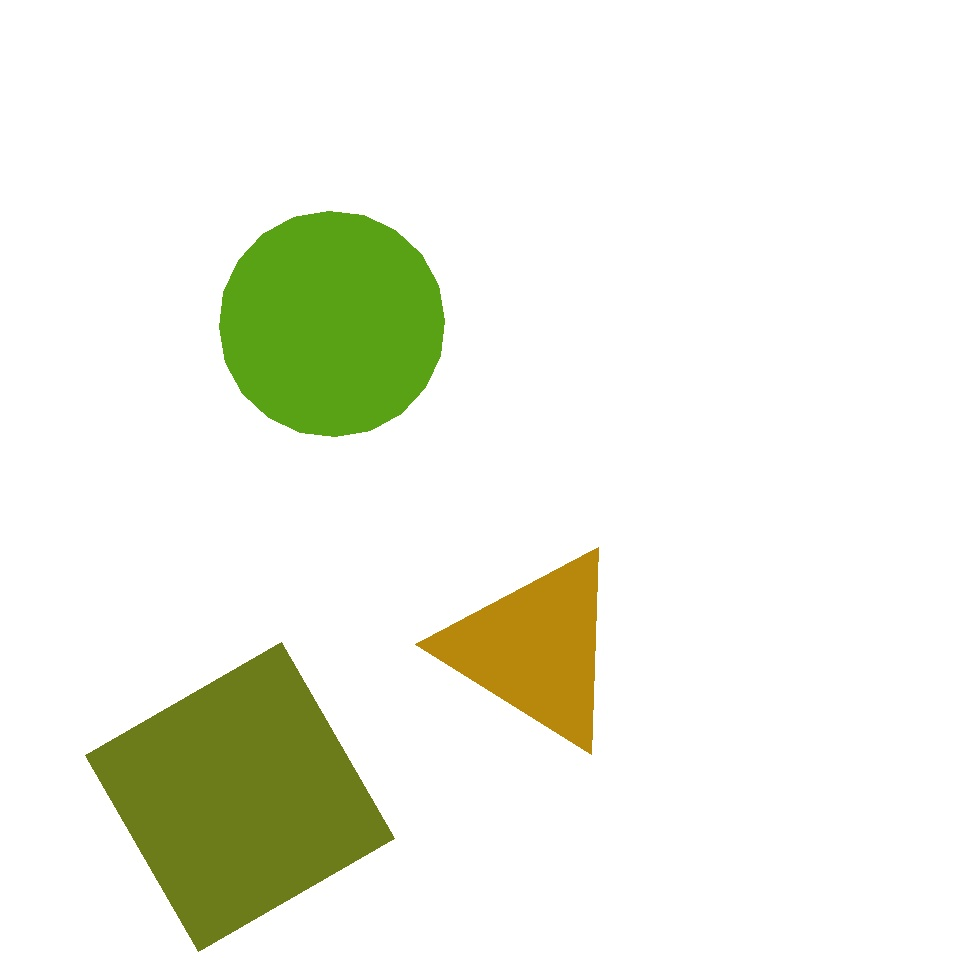circle: (443, 546, 626, 752), (620, 67, 724, 171)
square: (85, 642, 394, 952), (146, 622, 430, 908)
triangle: (220, 212, 444, 436)
